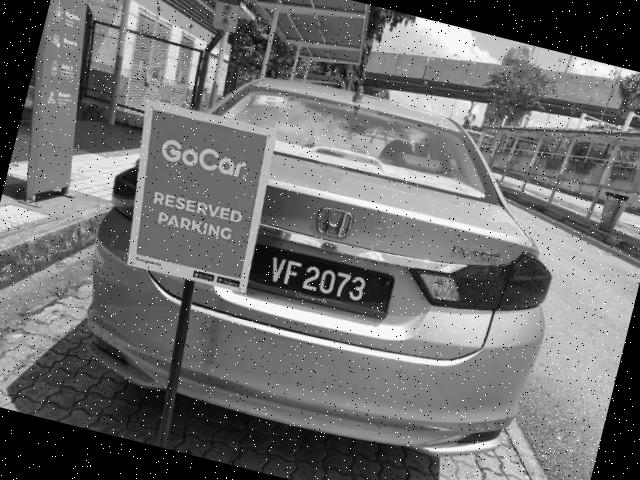License_Plate: (246, 241, 398, 323)
car: (63, 37, 591, 480)
